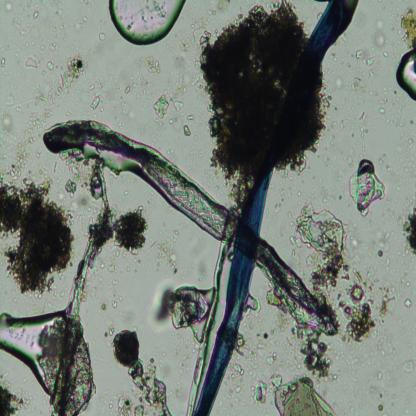Air bubble: (0, 306, 94, 407), (108, 0, 188, 50), (395, 47, 416, 105)
Background material: (194, 0, 329, 189), (0, 171, 77, 296), (287, 197, 353, 300), (264, 291, 338, 379), (110, 327, 174, 416), (341, 270, 394, 350), (152, 285, 214, 342), (38, 57, 90, 118), (98, 206, 152, 262), (268, 373, 336, 415), (346, 155, 385, 221), (349, 32, 376, 97), (124, 52, 162, 94), (371, 363, 399, 415), (90, 265, 120, 311), (155, 230, 180, 279), (7, 138, 34, 182), (0, 374, 28, 415), (234, 338, 263, 377), (22, 103, 43, 148), (154, 94, 184, 125), (49, 6, 73, 40), (401, 4, 416, 54), (373, 225, 390, 269), (404, 202, 416, 258), (174, 58, 191, 96), (0, 96, 17, 132), (378, 86, 394, 124), (228, 382, 248, 410), (176, 341, 194, 372), (252, 382, 271, 406), (334, 69, 348, 97), (374, 17, 384, 54), (64, 178, 78, 202), (356, 109, 368, 136), (399, 359, 414, 377), (22, 56, 40, 70), (402, 275, 414, 294), (48, 38, 61, 55), (90, 94, 101, 112), (181, 122, 193, 138), (75, 16, 88, 30), (0, 52, 10, 70), (4, 0, 16, 14), (97, 31, 108, 44), (402, 297, 412, 308), (32, 9, 39, 20)
Cellulose filter fibre: (42, 119, 337, 330), (47, 160, 108, 410)
Cotton: (193, 1, 361, 415)
